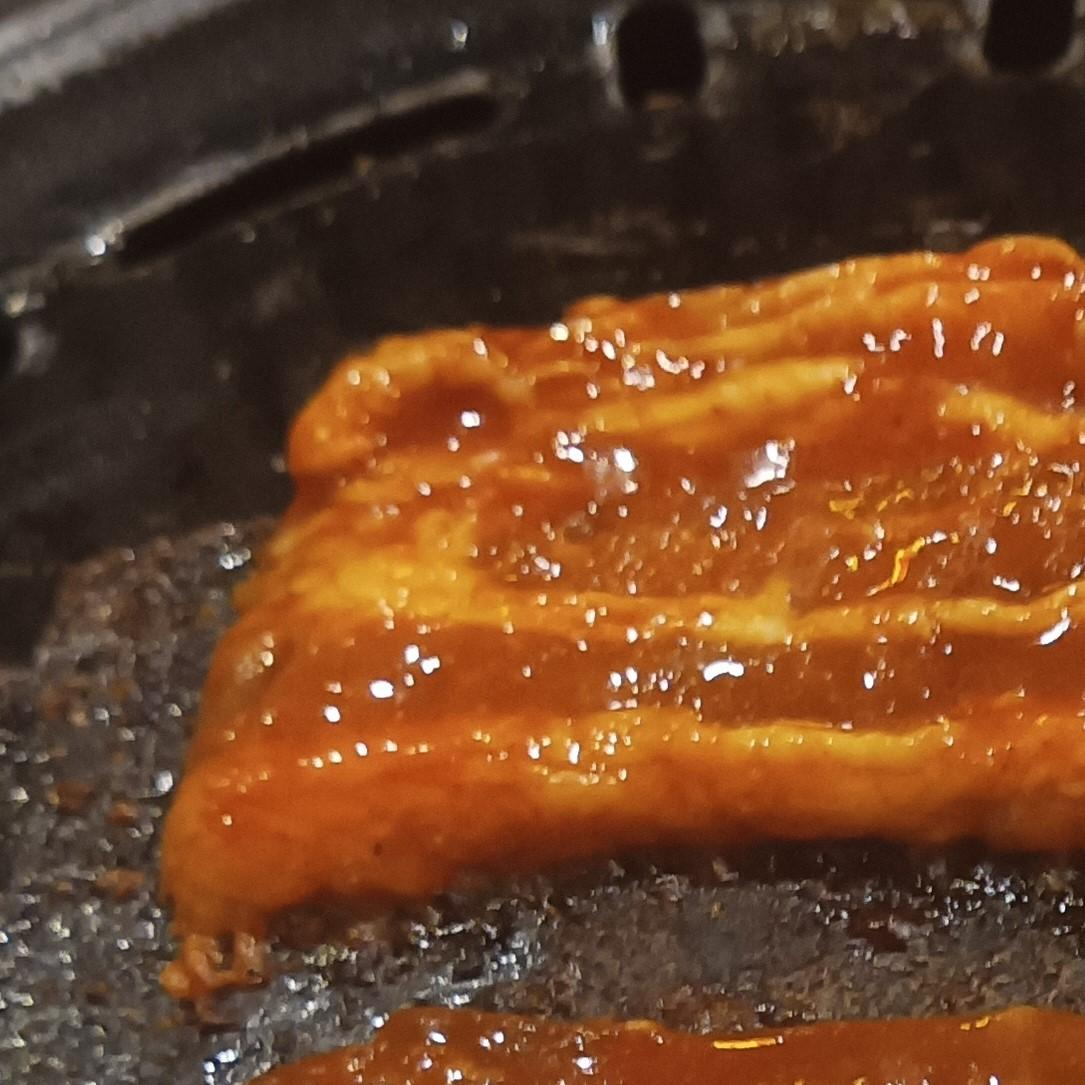Undercooked: (159, 237, 1084, 946), (245, 1010, 1073, 1084)
